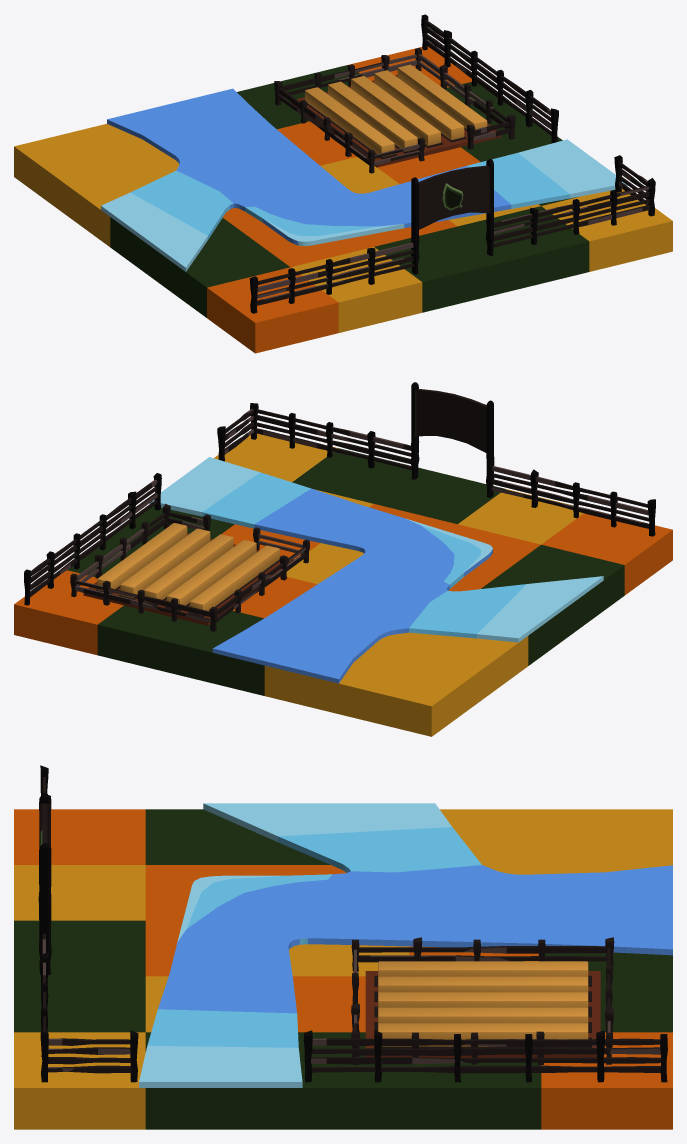
The model's file is 環境教育園區.fbx.
3 views of the same model, one above another, from view 1: azimuth 30°, elevation 25°; view 2: azimuth 150°, elevation 25°; view 3: azimuth 270°, elevation 25° (orthographic). The views are drawn at different scales.
Parts seen in each view (by area): view 1: plane_up_farm, plane_road001, Box091, Box076, Box120, Box118, Box070, rice001, rice004, rice002, rice003, rice (+7 smaller); view 2: plane_up_farm, plane_road001, Box091, Box076, Box120, Box118, Box070, rice004, rice001, rice002, rice, rice003 (+7 smaller); view 3: plane_up_farm, plane_road001, Box120, Box076, rice003, rice001, rice, rice004, rice002, Box099, Box070, mud (+2 smaller).
Boxes of the visible parts, bbox=[...] form: plane_up_farm: bbox=[14, 46, 672, 353]; plane_road001: bbox=[101, 88, 627, 271]; Box091: bbox=[411, 159, 493, 274]; Box076: bbox=[278, 54, 510, 165]; Box120: bbox=[424, 20, 648, 205]; Box118: bbox=[493, 186, 650, 247]; Box070: bbox=[274, 47, 515, 173]; rice001: bbox=[374, 70, 464, 140]; rice004: bbox=[305, 87, 394, 156]; rice002: bbox=[351, 76, 440, 145]; rice003: bbox=[328, 81, 417, 151]; rice: bbox=[397, 64, 487, 129]; plane_up_farm: bbox=[14, 433, 672, 736]; plane_road001: bbox=[149, 457, 603, 683]; Box091: bbox=[411, 382, 494, 497]; Box076: bbox=[75, 512, 306, 622]; Box120: bbox=[30, 409, 254, 596]; Box118: bbox=[255, 409, 411, 470]; Box070: bbox=[70, 503, 309, 631]; rice004: bbox=[190, 545, 279, 615]; rice001: bbox=[120, 528, 210, 598]; rice002: bbox=[144, 534, 233, 603]; rice: bbox=[97, 523, 187, 592]; rice003: bbox=[167, 540, 256, 605]; plane_up_farm: bbox=[14, 809, 672, 1129]; plane_road001: bbox=[139, 803, 672, 1087]; Box120: bbox=[48, 1038, 661, 1073]; Box076: bbox=[353, 946, 610, 1055]; rice003: bbox=[378, 976, 588, 992]; rice001: bbox=[378, 1007, 588, 1023]; rice: bbox=[378, 1023, 588, 1046]; rice004: bbox=[378, 961, 588, 976]; rice002: bbox=[378, 992, 588, 1007]; Box099: bbox=[130, 1030, 667, 1082]; Box070: bbox=[351, 937, 614, 1064]; mud: bbox=[365, 971, 600, 1057].
Bounding box in the file's own units: 100 × 28.72 × 100.
